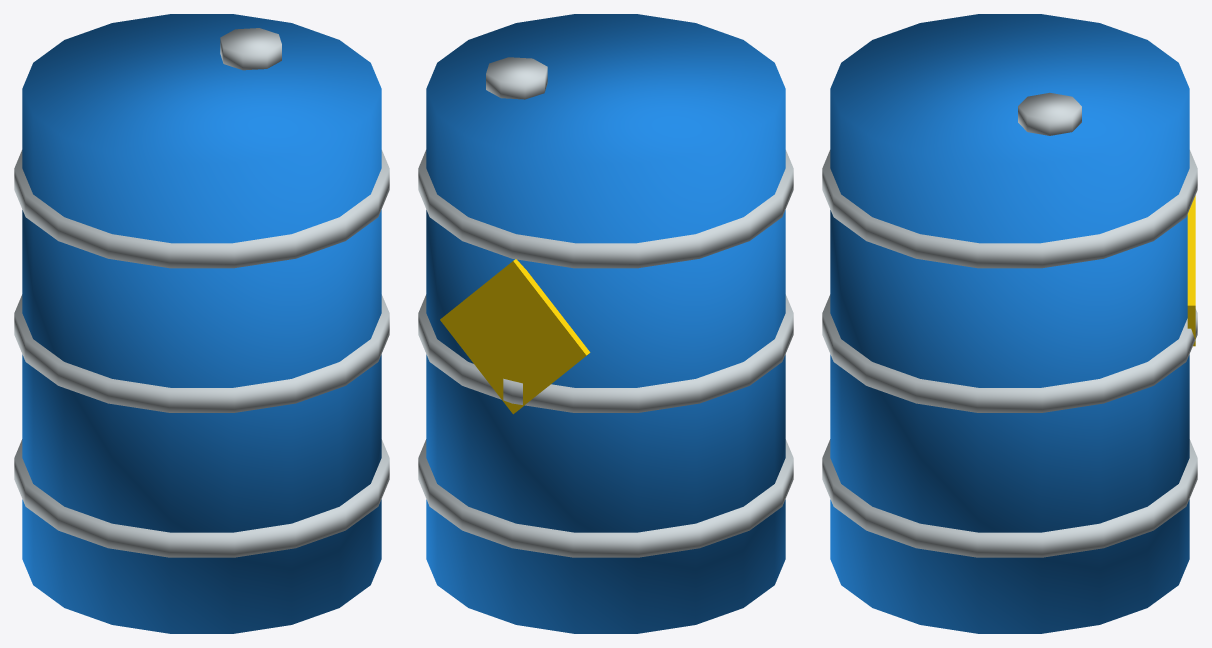
Rendered from Barrel.glb.
The picture shows the model from 3 angles, left to right: view 1: azimuth 30°, elevation 25°; view 2: azimuth 150°, elevation 25°; view 3: azimuth 270°, elevation 25°; orthographic projection.
Visible parts, largest first — view 1: Barrel; view 2: Barrel; view 3: Barrel.
Boxes of the visible parts, box(x1,y1,x2,y2) form: Barrel: box(14, 14, 389, 633); Barrel: box(418, 14, 793, 633); Barrel: box(822, 14, 1197, 633).
Size of the model in its own units: 0.9257 by 1.34 by 0.94.
